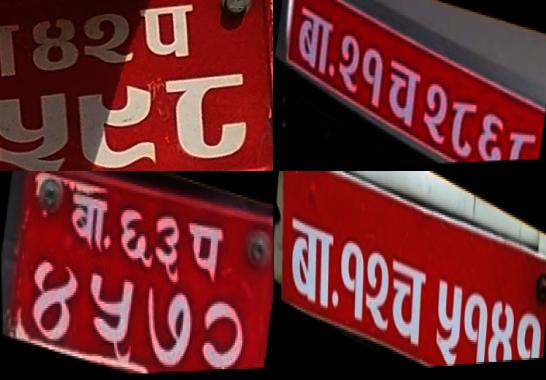1: (334, 229, 370, 330), (353, 32, 390, 116), (457, 284, 491, 368), (509, 304, 545, 365)
2: (71, 5, 143, 80), (193, 295, 250, 373), (360, 241, 394, 343), (417, 70, 456, 152), (330, 24, 367, 103)
3: (147, 209, 186, 282)
4: (22, 254, 85, 350), (17, 9, 89, 83), (483, 292, 517, 367)
5: (0, 74, 84, 171), (78, 266, 144, 364), (428, 267, 465, 370)
6: (113, 202, 156, 272), (472, 99, 513, 164)
7: (139, 279, 197, 375)
8: (147, 57, 262, 170), (442, 77, 484, 165), (499, 113, 544, 163)
9: (60, 69, 173, 171)
ba: (282, 202, 336, 320), (290, 1, 338, 83), (65, 188, 112, 254), (0, 3, 27, 96)
cha: (386, 244, 430, 360), (379, 52, 426, 135)
pa: (125, 0, 208, 73), (181, 218, 226, 284)
